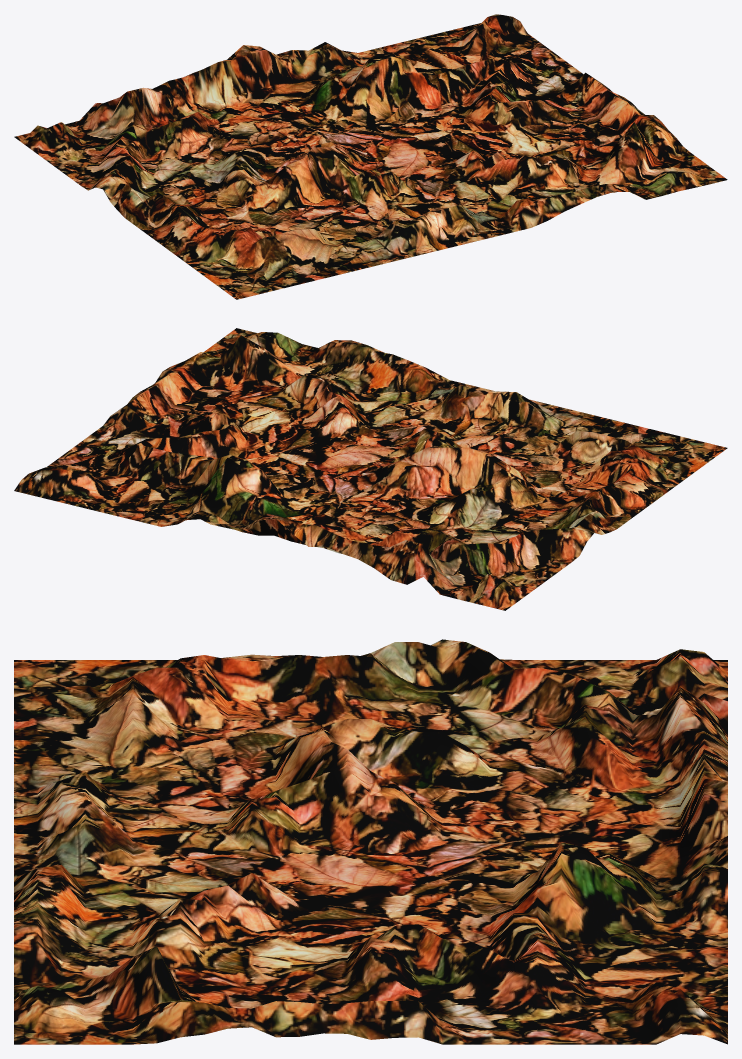
File: terenbw.FBX
3 views of the same model, one above another, from view 1: azimuth 30°, elevation 25°; view 2: azimuth 150°, elevation 25°; view 3: azimuth 270°, elevation 25° (orthographic). The views are drawn at different scales.
Parts seen in each view (by area): view 1: Plane01; view 2: Plane01; view 3: Plane01.
Boxes of the visible parts, x1,y1,x2,y2 form: Plane01: (14, 14, 727, 299); Plane01: (14, 328, 727, 610); Plane01: (14, 639, 727, 1044).
Bounding box in the file's own units: 880 × 65.33 × 691.
1 material, 1 textured.
